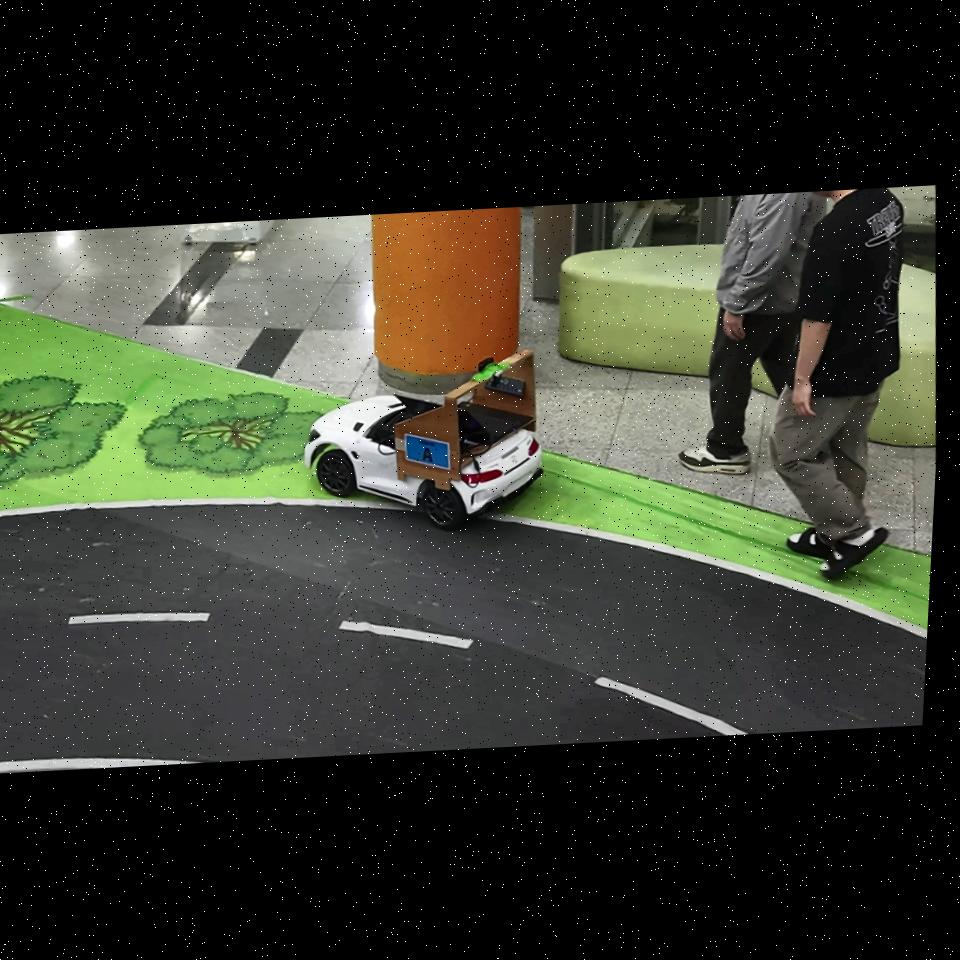broken_line: (594, 676, 748, 735), (338, 620, 474, 649), (68, 612, 211, 625)
